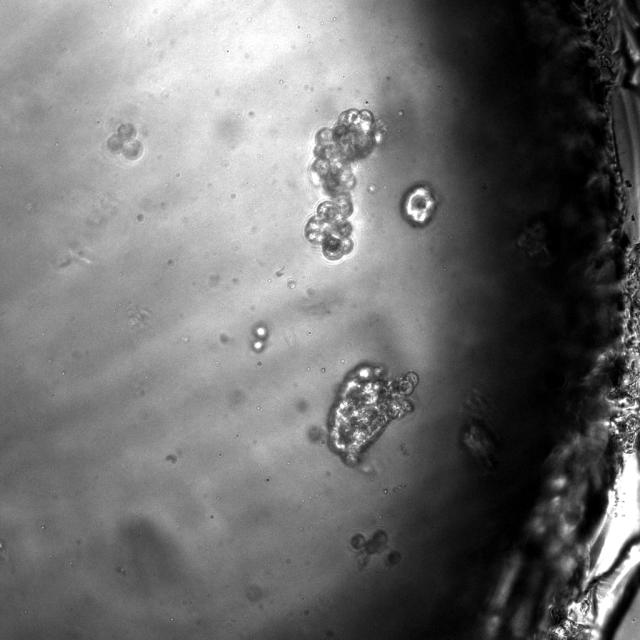organoid: (304, 108, 386, 260), (328, 362, 418, 466), (459, 390, 501, 474), (399, 182, 439, 228), (104, 122, 144, 162), (349, 530, 388, 569), (251, 323, 269, 352), (386, 550, 402, 565)
